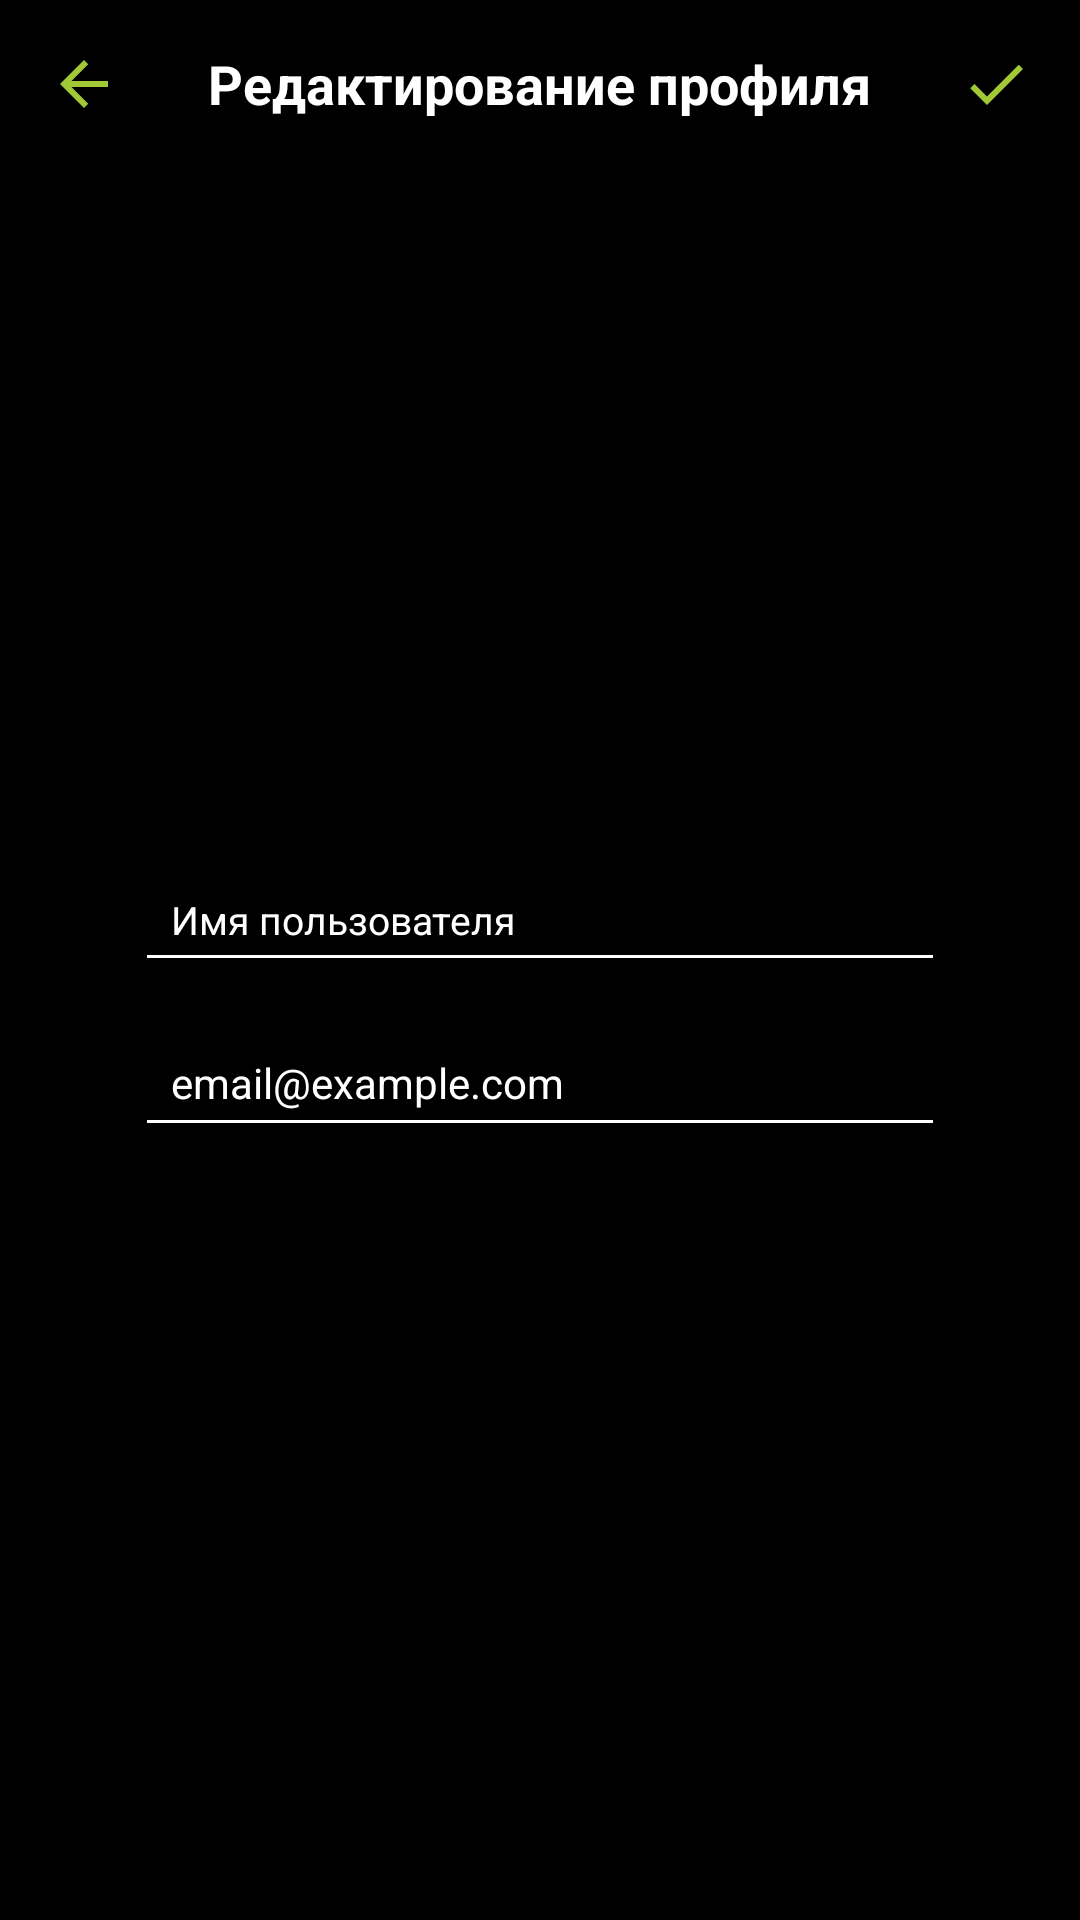

Locate icon controls on the screen. Image size 1080w x 1920h, boxes as (x1, y1, x2, y2).
back: (60, 60, 108, 108)
save: (970, 65, 1023, 105)
